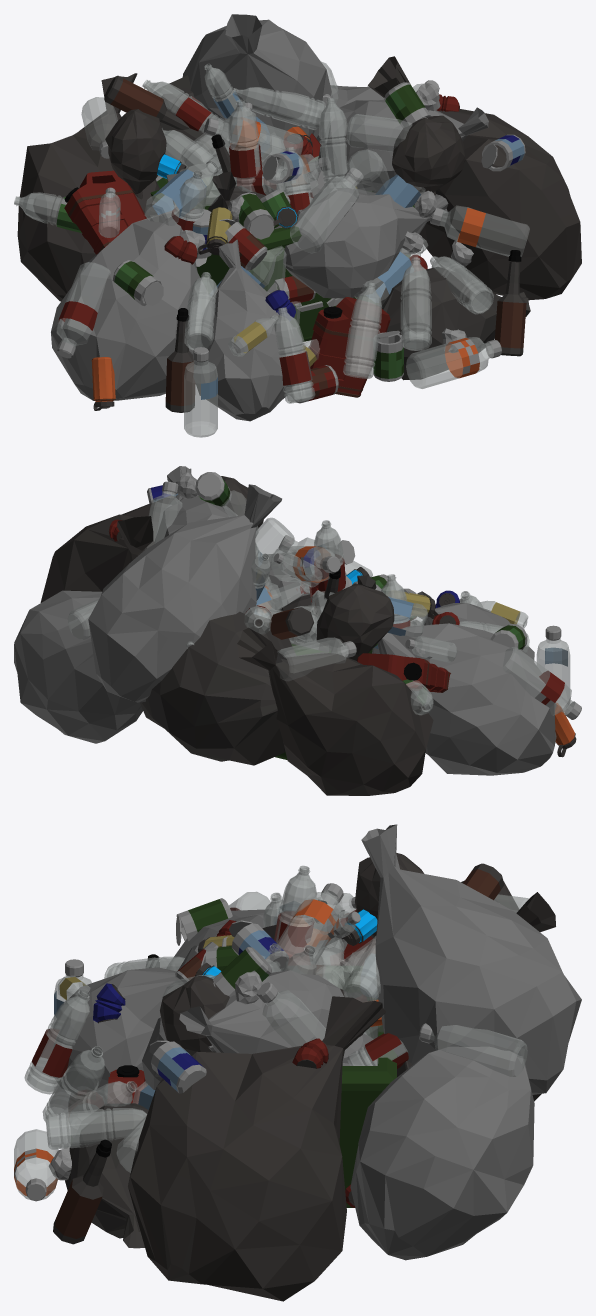
File: TrashIsland (1).fbx
3 views of the same model, one above another, from view 1: azimuth 30°, elevation 25°; view 2: azimuth 150°, elevation 25°; view 3: azimuth 270°, elevation 25° (orthographic). The views are drawn at different scales.
Parts seen in each view (by area): view 1: Trash_Tissue.012; view 2: Trash_Tissue.012; view 3: Trash_Tissue.012.
Part boxes in pixels (box(x1,y1,x2,y2)): Trash_Tissue.012: box(14, 14, 581, 437); Trash_Tissue.012: box(14, 466, 581, 795); Trash_Tissue.012: box(14, 824, 581, 1301).
Bounding box in the file's own units: 458 × 586 × 323.
